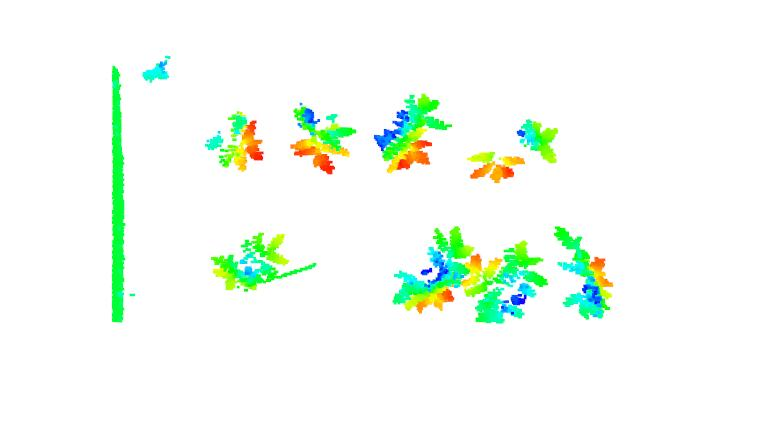chickpea: (390, 224, 475, 313), (464, 239, 547, 324), (464, 114, 556, 186), (552, 224, 617, 320), (376, 92, 453, 172), (209, 230, 290, 291), (293, 104, 355, 176), (208, 110, 266, 172)
